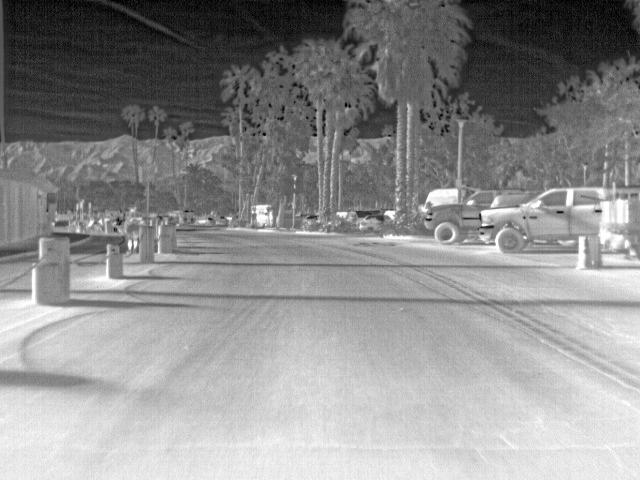car: (479, 184, 604, 250), (422, 188, 496, 246), (488, 188, 533, 210), (360, 211, 390, 227), (302, 210, 318, 228), (336, 210, 354, 223), (357, 209, 373, 222)
person: (126, 207, 141, 252)
